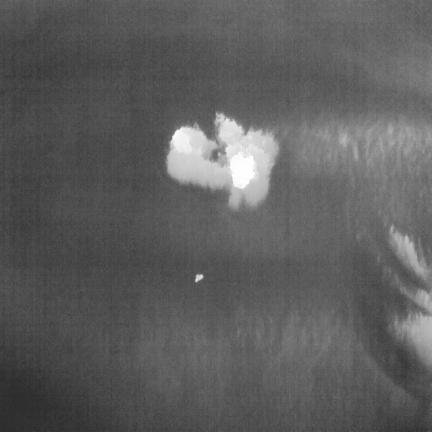flukeprints: (167, 113, 278, 208)
